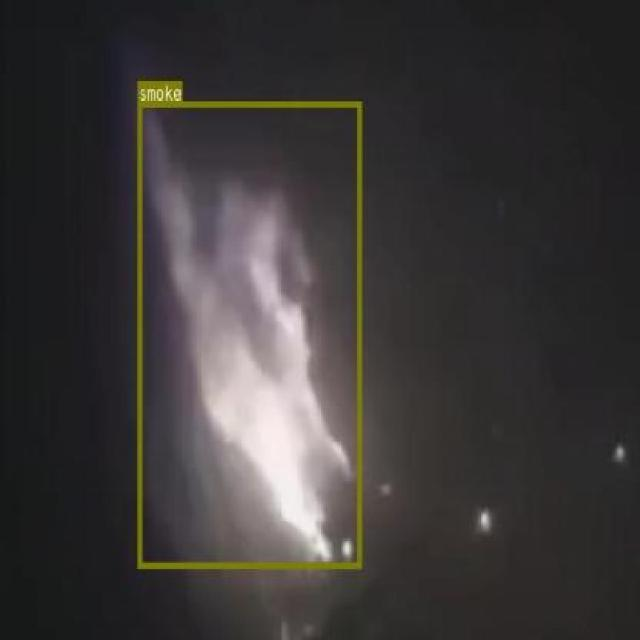Smoke: (137, 100, 360, 568)
